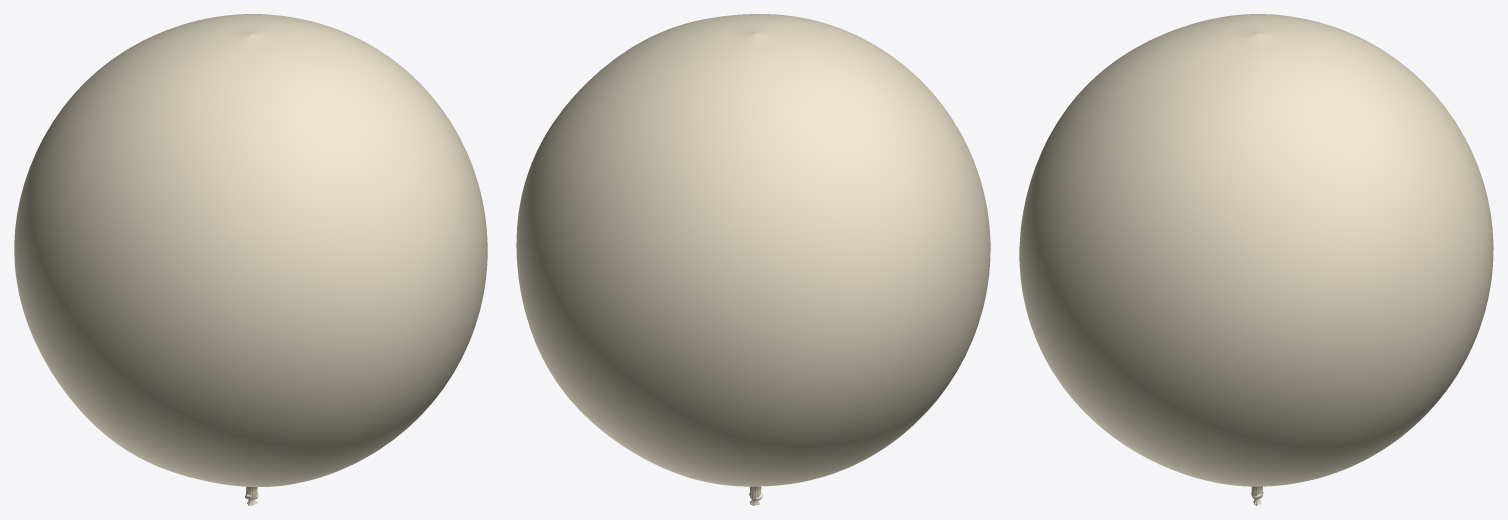
File: balloon-latex.glb
3 views of the same model, side by side, from view 1: azimuth 30°, elevation 25°; view 2: azimuth 150°, elevation 25°; view 3: azimuth 270°, elevation 25° (orthographic).
Parts seen in each view (by area): view 1: Natural latex envelope / seamless gathered neck; view 2: Natural latex envelope / seamless gathered neck; view 3: Natural latex envelope / seamless gathered neck.
Boxes of the visible parts, x1,y1,x2,y2 form: Natural latex envelope / seamless gathered neck: (14, 14, 487, 499); Natural latex envelope / seamless gathered neck: (516, 14, 990, 499); Natural latex envelope / seamless gathered neck: (1019, 14, 1493, 498).
Size of the model in its own units: 1.65 by 1.81 by 1.66.
